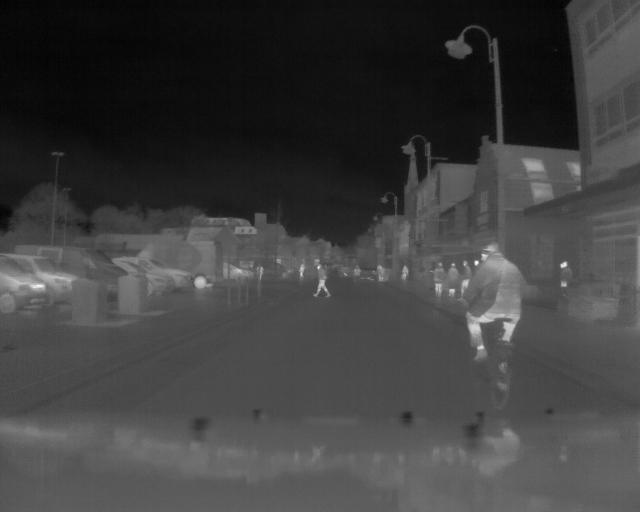car: (14, 243, 129, 299), (4, 256, 79, 309), (144, 239, 222, 289), (1, 255, 48, 315), (111, 258, 176, 295), (137, 253, 194, 293)
person: (466, 237, 526, 361), (309, 260, 334, 300), (428, 260, 446, 297), (554, 257, 574, 288), (448, 261, 460, 299), (462, 258, 472, 301)
